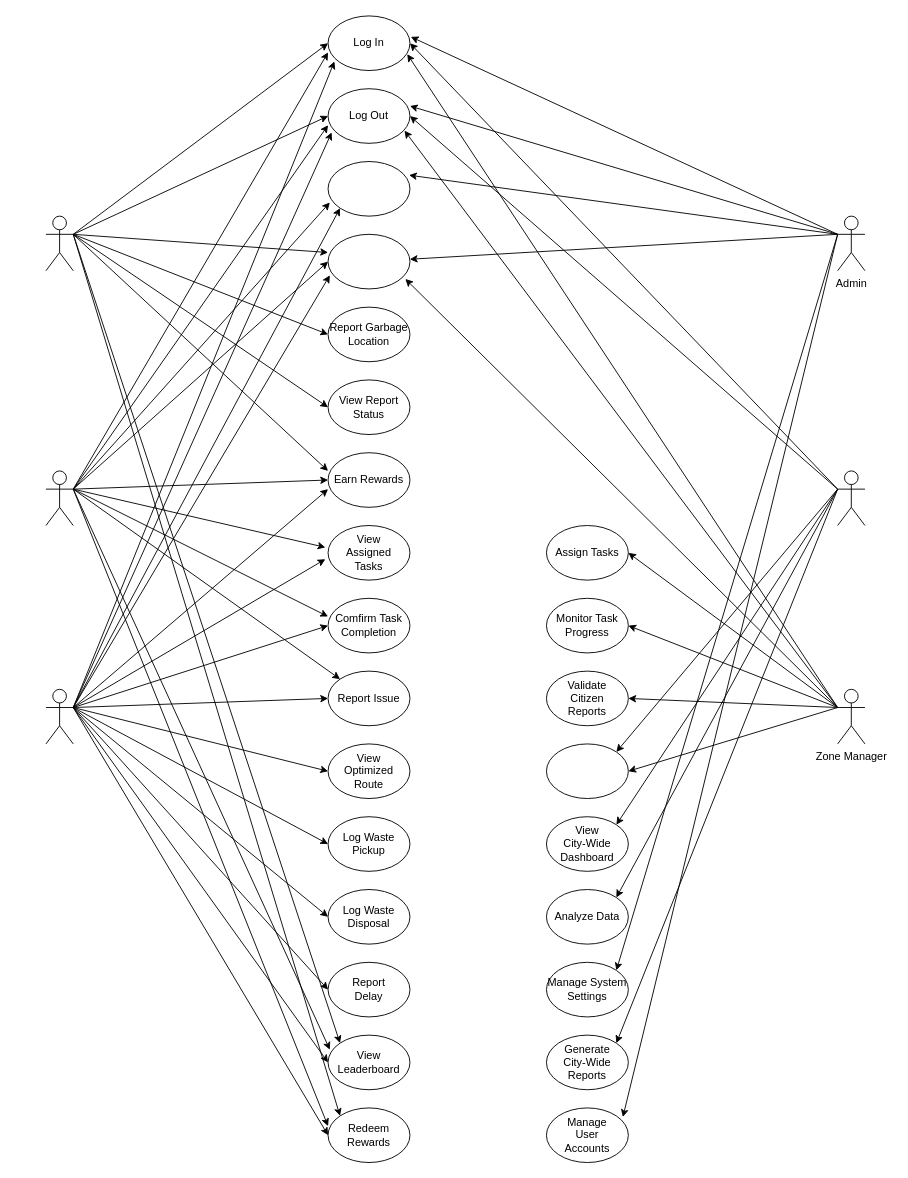
Some shapes in this 908 by 1178 pixel diagram are drawn without their labels. The shapes that lost their labels are listed below. From the top down, each one's centre as x and y in pixels, then its label:
the point at 368,188: View Performance Metrics
the point at 59,243: CItizen
the point at 368,261: Receive Notifications
the point at 59,498: Garbage Collector
the point at 851,498: Municipal Official
the point at 59,716: Truck Driver
the point at 587,771: Generate Performance Reports
